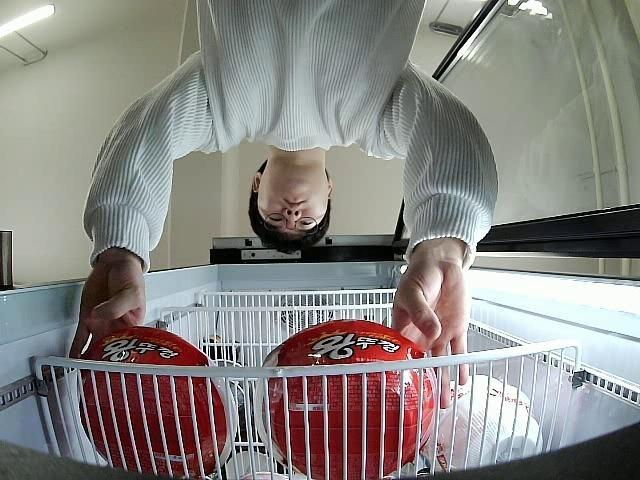10_wangTtukkeong: (250, 320, 438, 480), (75, 324, 236, 479)
